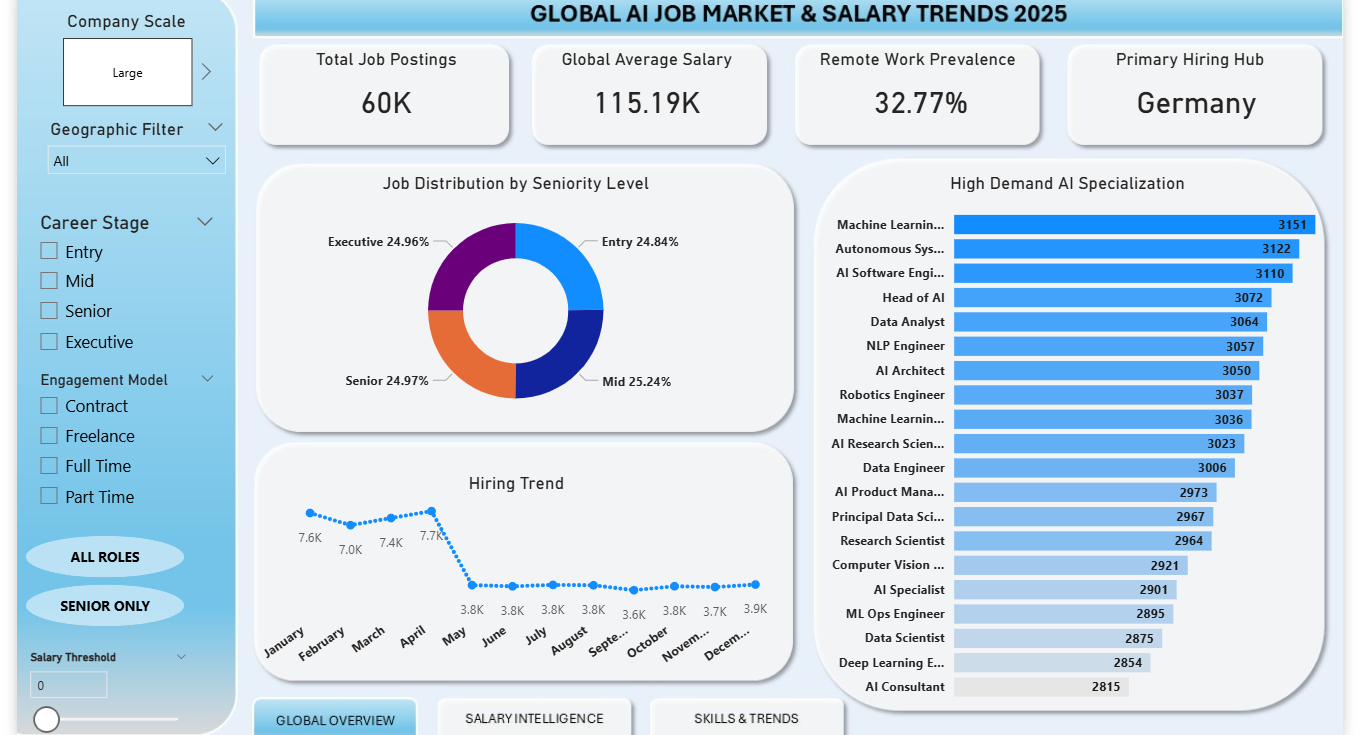

This screenshot's page, from the dashboard's own definition file:
{"tool":"powerbi","page":{"name":"Global Overview","canvas":[1280,720],"ordinal":0},"visuals":[{"type":"card","title":"Total Job Postings","fields":{"Values":["_Measures.Total Jobs"]},"box":[275.1,54.3,162.9,82],"z":0},{"type":"card","title":"Global Average Salary","fields":{"Values":["_Measures.Avg Salary"]},"box":[512.7,54.3,190.6,82],"z":1000},{"type":"card","title":"Remote Work Prevalence","fields":{"Values":["_Measures.Remote Ratio"]},"box":[769.7,54.3,206.3,82],"z":2000},{"type":"clusteredBarChart","title":"High Demand AI Specialization","fields":{"Category":["FactJobs.Role"],"Y":["_Measures.Total Jobs"]},"box":[769.7,173.7,488.6,521.2],"z":3000},{"type":"donutChart","title":"Job Distribution by Seniority Level","fields":{"Category":["DimExperience.Experience"],"Y":["_Measures.Total Jobs"]},"box":[259.8,173.7,444.3,249.1],"z":4000},{"type":"lineChart","title":"Hiring Trend ","fields":{"Y":["_Measures.Total Jobs"],"Category":["DimDate.MonthName","DimDate.Date.Variation.Date Hierarchy.Year","DimDate.Date.Variation.Date Hierarchy.Quarter","DimDate.Date.Variation.Date Hierarchy.Month","DimDate.Date.Variation.Date Hierarchy.Day"]},"box":[230.4,463.6,503.1,197.7],"z":5000},{"type":"slicer","title":"Geographic Filter","fields":{"Values":["DimCountry.Country"]},"box":[19.5,116.9,192,90.4],"z":6000},{"type":"slicer","title":"Career Stage","fields":{"Values":["DimExperience.Experience"]},"box":[9.7,207.3,192,153],"z":7000},{"type":"slicer","title":"Engagement Model","fields":{"Values":["FactJobs.EmploymentType"]},"box":[9.7,360.3,193.4,164.2],"z":8000},{"type":"slicer","title":"Company Scale","fields":{"Values":["FactJobs.CompanySize"]},"box":[18.1,18.1,175.3,98.8],"z":9000},{"type":"card","title":"Primary Hiring Hub","fields":{"Values":["_Measures.Top Country"]},"box":[1055.6,54.3,166.5,82],"z":10000},{"type":"actionButton","box":[405.4,680.4,185.8,39.8],"z":11000},{"type":"actionButton","box":[639.4,680.4,162.9,39.8],"z":12000},{"type":"actionButton","box":[8.3,524.5,153,40.3],"z":13000},{"type":"actionButton","box":[8.3,571.8,153,40.3],"z":14000},{"type":"slicer","fields":{"Values":["Salary Threshold 3.Salary Threshold"]},"box":[0,631,176.1,89.3],"z":15000}]}

Visuals, with their boxes on the page's 1280x720 design canvas (x1, y1, x2, y2). These are canvas units, not pixel positions in the 1359x735 screenshot, which may show the page scaled, cropped or inside an application window:
"Total Job Postings" card: <region>275, 54, 438, 136</region>
"Global Average Salary" card: <region>513, 54, 703, 136</region>
"Remote Work Prevalence" card: <region>770, 54, 976, 136</region>
"High Demand AI Specialization" clusteredBarChart: <region>770, 174, 1258, 695</region>
"Job Distribution by Seniority Level" donutChart: <region>260, 174, 704, 423</region>
"Hiring Trend " lineChart: <region>230, 464, 734, 661</region>
"Geographic Filter" slicer: <region>20, 117, 212, 207</region>
"Career Stage" slicer: <region>10, 207, 202, 360</region>
"Engagement Model" slicer: <region>10, 360, 203, 524</region>
"Company Scale" slicer: <region>18, 18, 193, 117</region>
"Primary Hiring Hub" card: <region>1056, 54, 1222, 136</region>
actionButton: <region>405, 680, 591, 720</region>
actionButton: <region>639, 680, 802, 720</region>
actionButton: <region>8, 524, 161, 565</region>
actionButton: <region>8, 572, 161, 612</region>
slicer - Salary Threshold 3.Salary Threshold: <region>0, 631, 176, 720</region>
